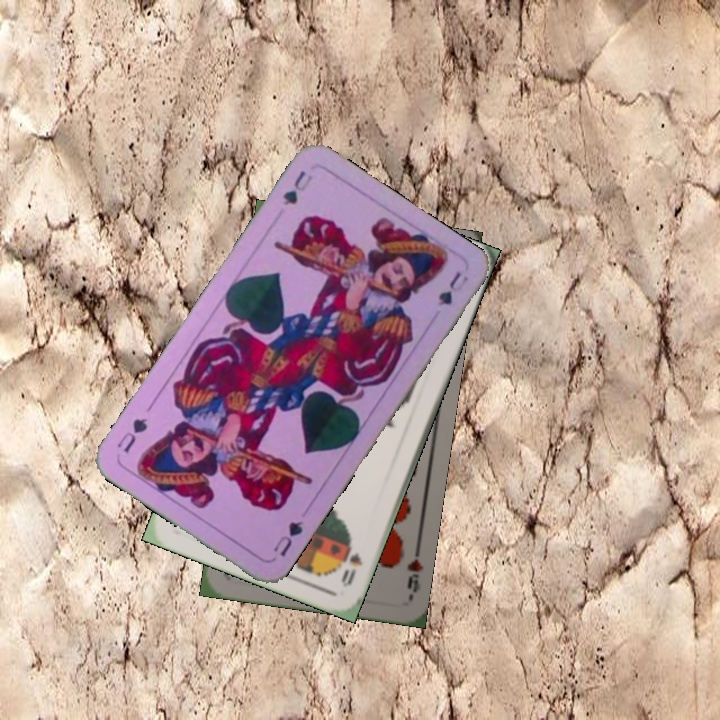GU: (278, 166, 316, 208), (269, 516, 306, 559)
H9: (403, 541, 426, 600)
SO: (337, 548, 366, 590)
